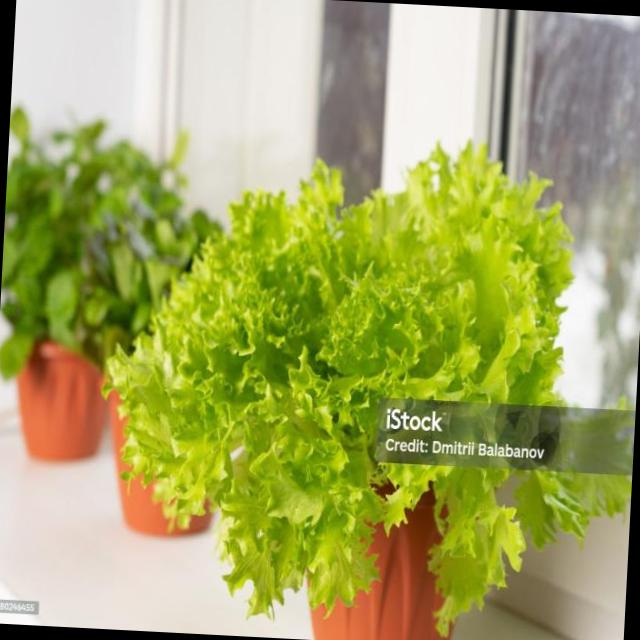Lettuce-Ready-to-Harvest: (109, 146, 632, 633)
